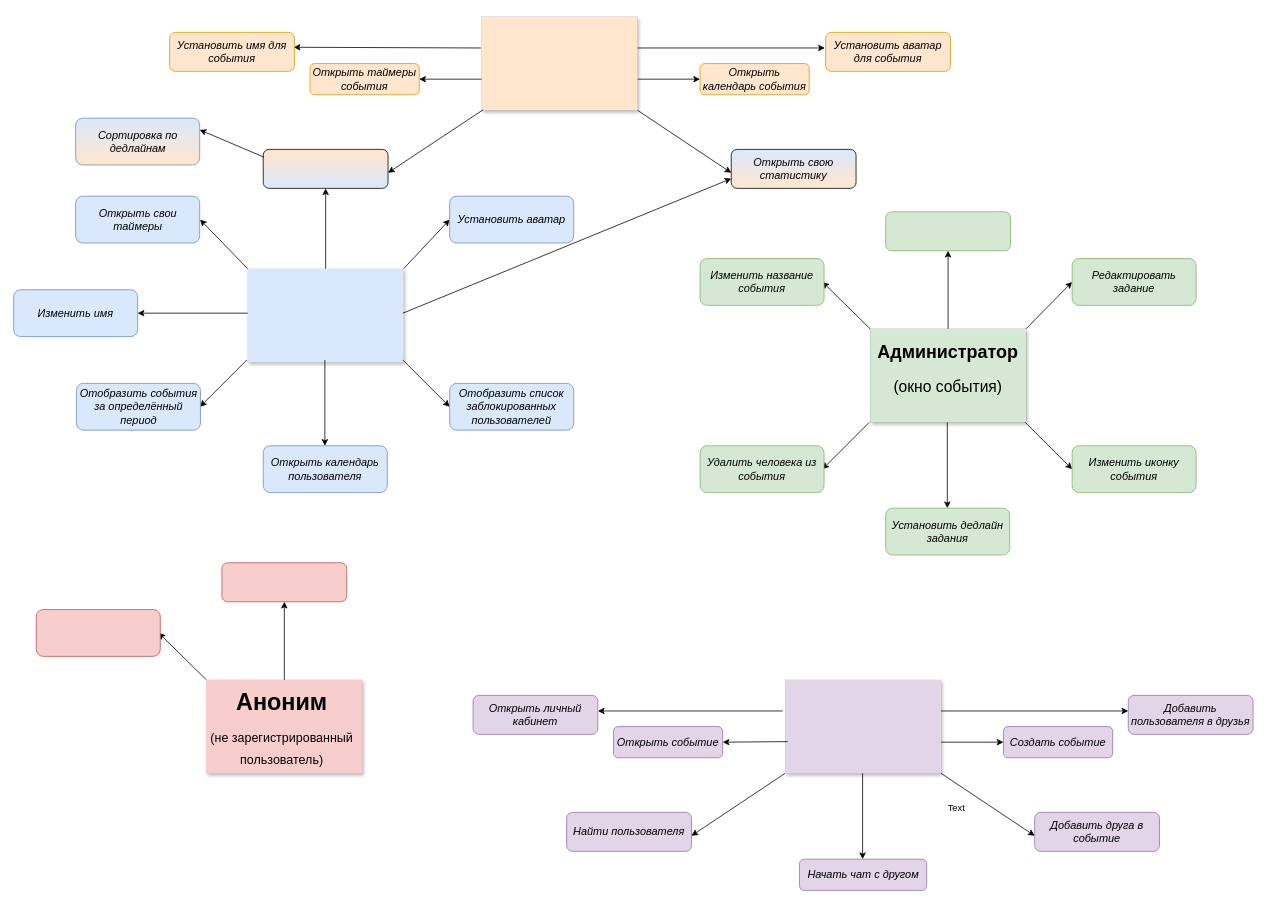
Image size: 1267x911. Some labels were removed from this diagram. Here are the shapes that lost their labels. From the top down, the centre of each, then its label:
At [560,64]: "Пользователь (личный кабинет события)".
At [325,168]: "Отобразить список заданий".
At [947,231]: "Назначить человека на задание".
At [326,316]: "Пользователь (личный кабинет)".
At [284,582]: "Зарегистрироваться".
At [97,632]: "Ознакомиться с информацией о приложении".
At [863,727]: "Пользователь (home page)".
